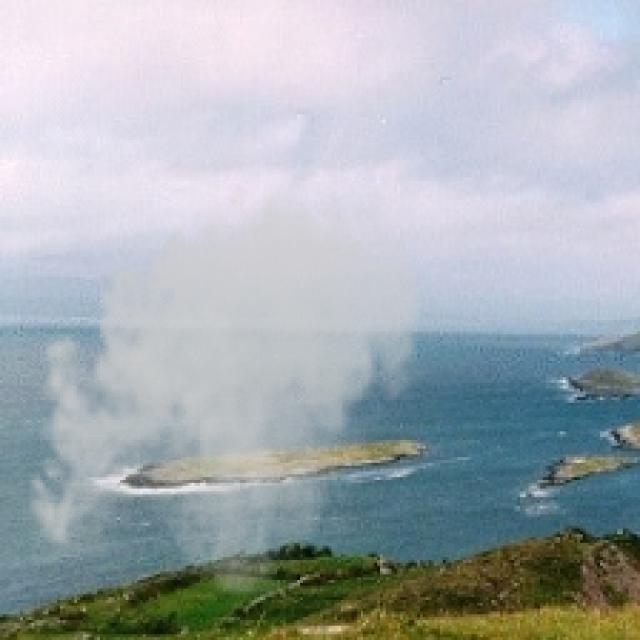Smoke: (14, 174, 432, 597)
